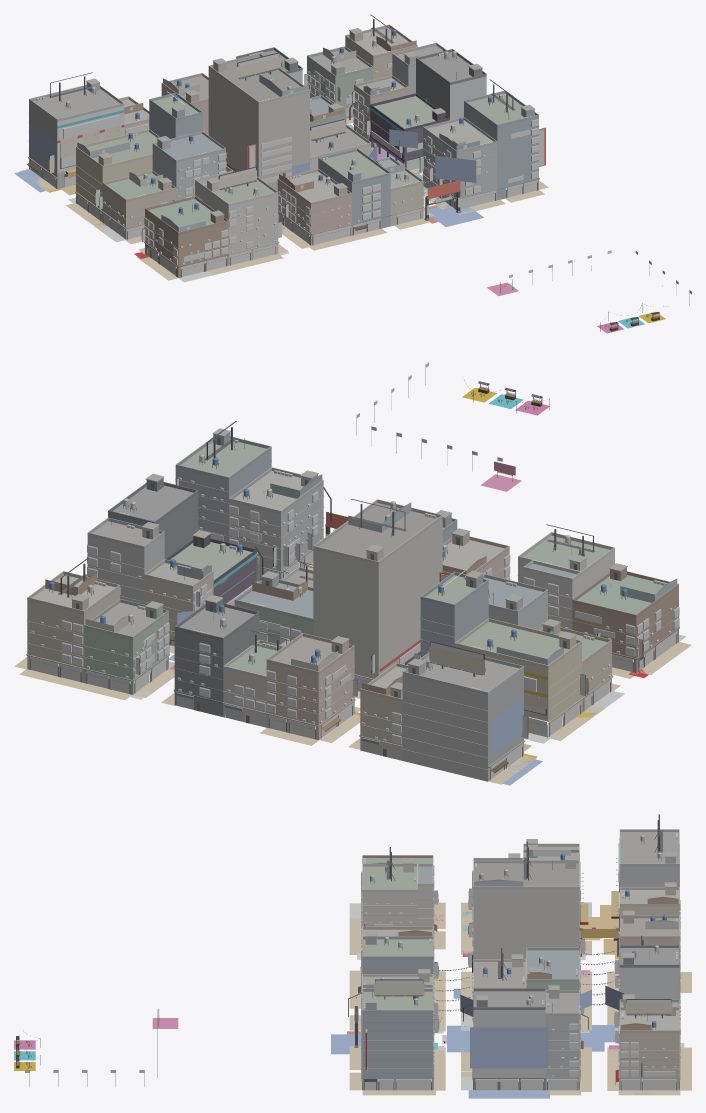
The model's file is taipei-district.glb.
3 views of the same model, one above another, from view 1: azimuth 30°, elevation 25°; view 2: azimuth 150°, elevation 25°; view 3: azimuth 270°, elevation 25° (orthographic). The views are drawn at different scales.
Visible parts, largest first — view 1: G, L, D; view 2: G, L, D; view 3: G, L, D.
Boxes of the visible parts, <box> form: G: <box>27,14,691,331</box>; L: <box>14,56,665,333</box>; D: <box>104,69,538,264</box>; G: <box>26,362,679,781</box>; L: <box>14,387,691,785</box>; D: <box>31,477,679,744</box>; G: <box>16,814,680,1090</box>; L: <box>14,891,691,1098</box>; D: <box>361,865,680,1084</box>.
Bounding box in the file's own units: 151 × 46.2 × 213.
